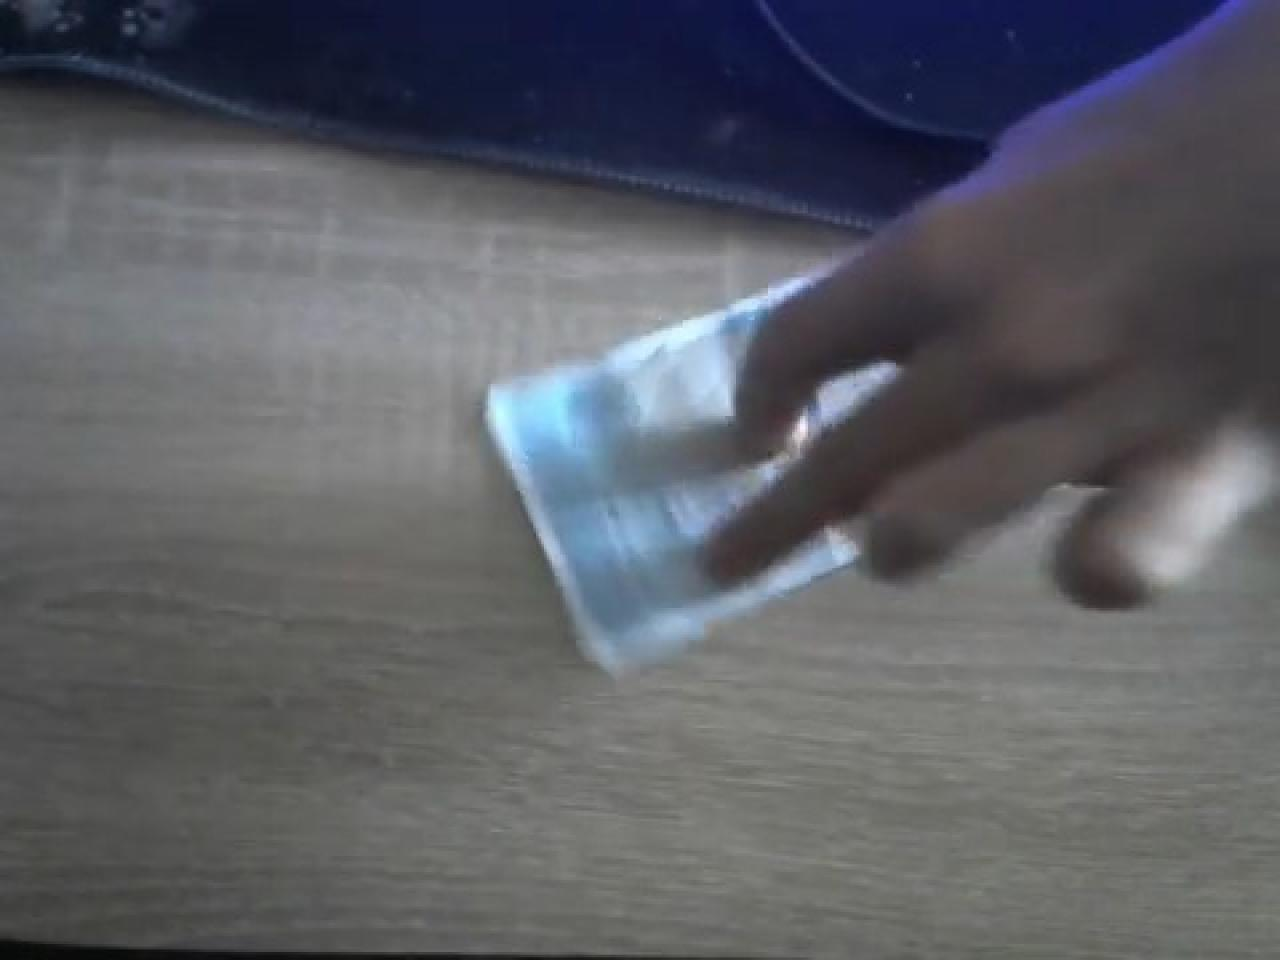20leva: (483, 0, 1280, 680)
